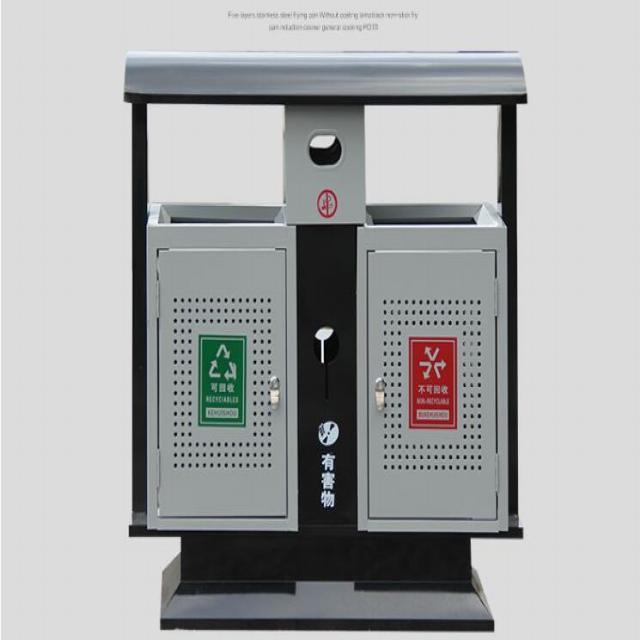ash bin: (114, 43, 528, 639)
